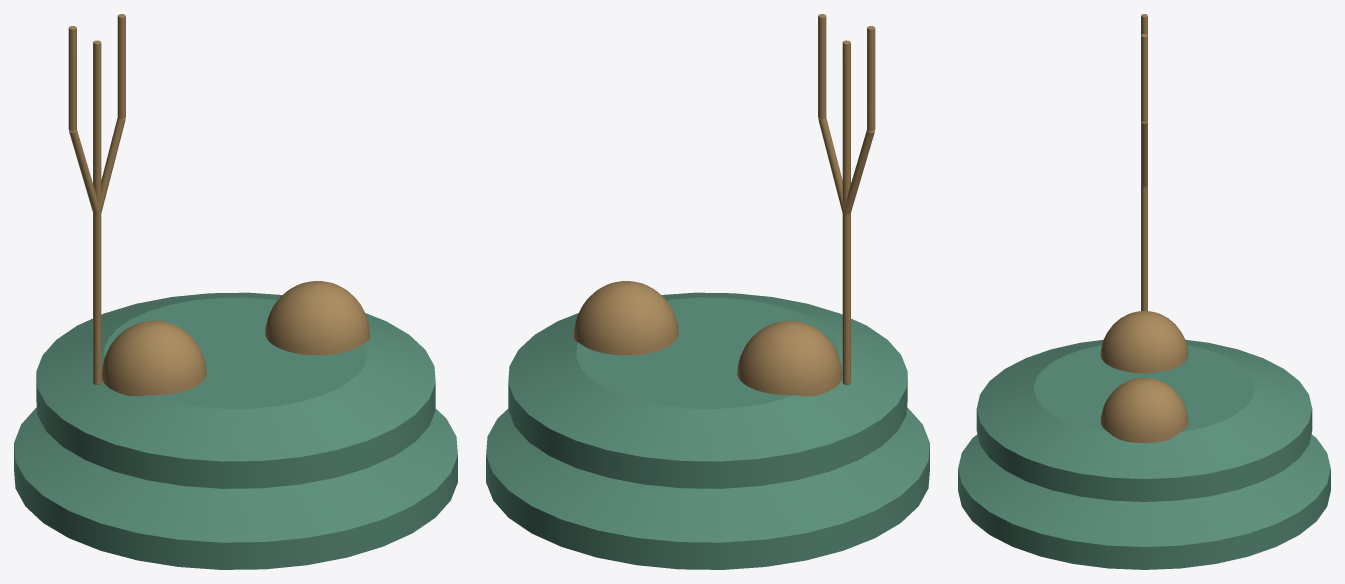
3 views of the same model, side by side, from view 1: azimuth 30°, elevation 25°; view 2: azimuth 150°, elevation 25°; view 3: azimuth 270°, elevation 25° (orthographic). The views are drawn at different scales.
Visible parts, largest first — view 1: Terraced oval hull.001, Terraced oval hull, Saucer roof auxiliary pod.001, Saucer roof auxiliary pod, Aerial stem, Aerial fork tine, Aerial fork tine.001, Aerial fork.001, Aerial fork; view 2: Terraced oval hull.001, Terraced oval hull, Saucer roof auxiliary pod.001, Saucer roof auxiliary pod, Aerial stem, Aerial fork tine, Aerial fork tine.001, Aerial fork.001, Aerial fork; view 3: Terraced oval hull.001, Terraced oval hull, Saucer roof auxiliary pod, Saucer roof auxiliary pod.001, Aerial stem, Aerial fork tine.001.
Boxes of the visible parts, box(x1,y1,x2,y2) form: Terraced oval hull.001: box(36, 292, 435, 488); Terraced oval hull: box(14, 407, 457, 569); Saucer roof auxiliary pod.001: box(101, 320, 206, 396); Saucer roof auxiliary pod: box(265, 281, 370, 355); Aerial stem: box(93, 40, 101, 384); Aerial fork tine: box(68, 26, 76, 131); Aerial fork tine.001: box(117, 14, 125, 119); Aerial fork.001: box(99, 118, 125, 213); Aerial fork: box(69, 130, 99, 214); Terraced oval hull.001: box(508, 292, 907, 488); Terraced oval hull: box(486, 407, 929, 569); Saucer roof auxiliary pod.001: box(737, 320, 842, 396); Saucer roof auxiliary pod: box(573, 281, 678, 355); Aerial stem: box(842, 40, 850, 384); Aerial fork tine: box(867, 26, 875, 131); Aerial fork tine.001: box(818, 14, 826, 119); Aerial fork.001: box(818, 118, 844, 213); Aerial fork: box(844, 130, 874, 214); Terraced oval hull.001: box(976, 339, 1312, 501); Terraced oval hull: box(958, 434, 1330, 569); Saucer roof auxiliary pod: box(1100, 377, 1188, 442); Saucer roof auxiliary pod.001: box(1100, 311, 1188, 373); Aerial stem: box(1141, 185, 1147, 310); Aerial fork tine.001: box(1141, 34, 1147, 122).
Size of the model in its own units: 2.36 by 2.96 by 2.36.
